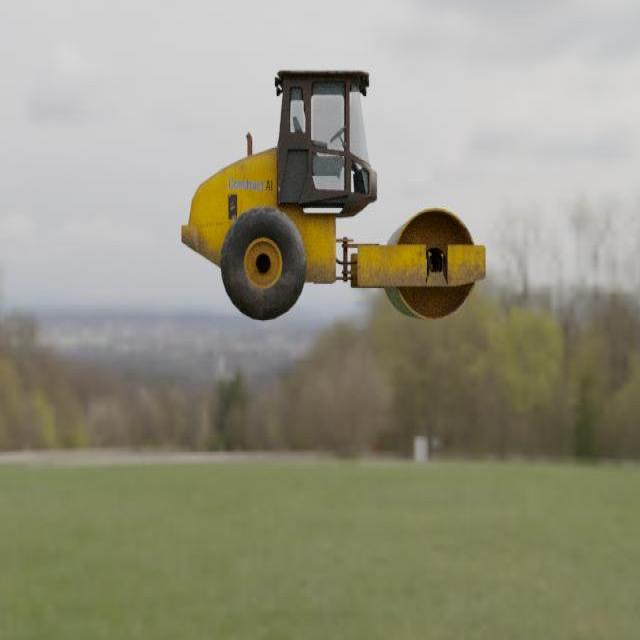Roller: (180, 70, 486, 322)
